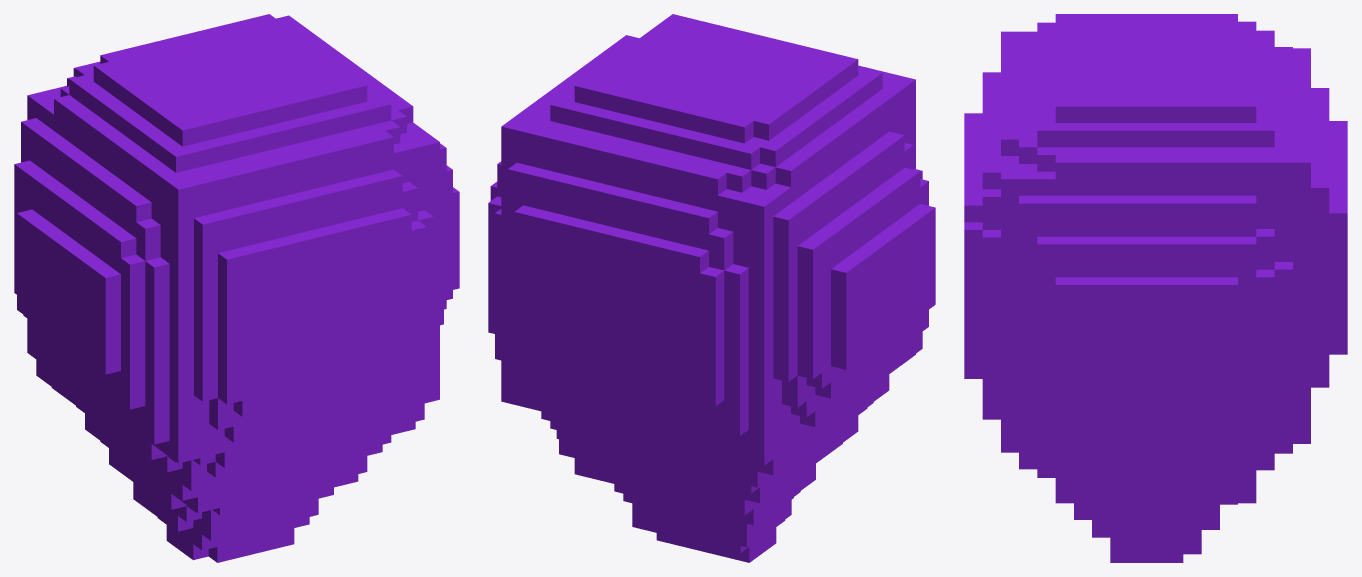
Rendered from kloc.fbx.
3 views of the same model, side by side, from view 1: azimuth 30°, elevation 25°; view 2: azimuth 150°, elevation 25°; view 3: azimuth 270°, elevation 25° (orthographic). The views are drawn at different scales.
Parts seen in each view (by area): view 1: Cube; view 2: Cube; view 3: Cube.
Part boxes in pixels (x1,y1,x2,y2): Cube: [14, 14, 459, 562]; Cube: [488, 14, 935, 562]; Cube: [964, 14, 1347, 562].
Bounding box in the file's own units: 279 × 351 × 254.
